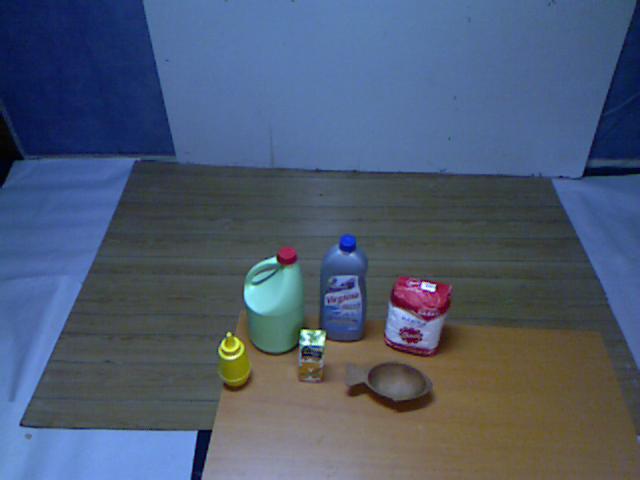cera: (314, 233, 373, 347)
cloroplano: (239, 241, 314, 359)
harina: (382, 268, 453, 360)
jugoind: (291, 325, 329, 387)
mostaza: (212, 328, 252, 390)
pescado: (341, 354, 438, 411)
